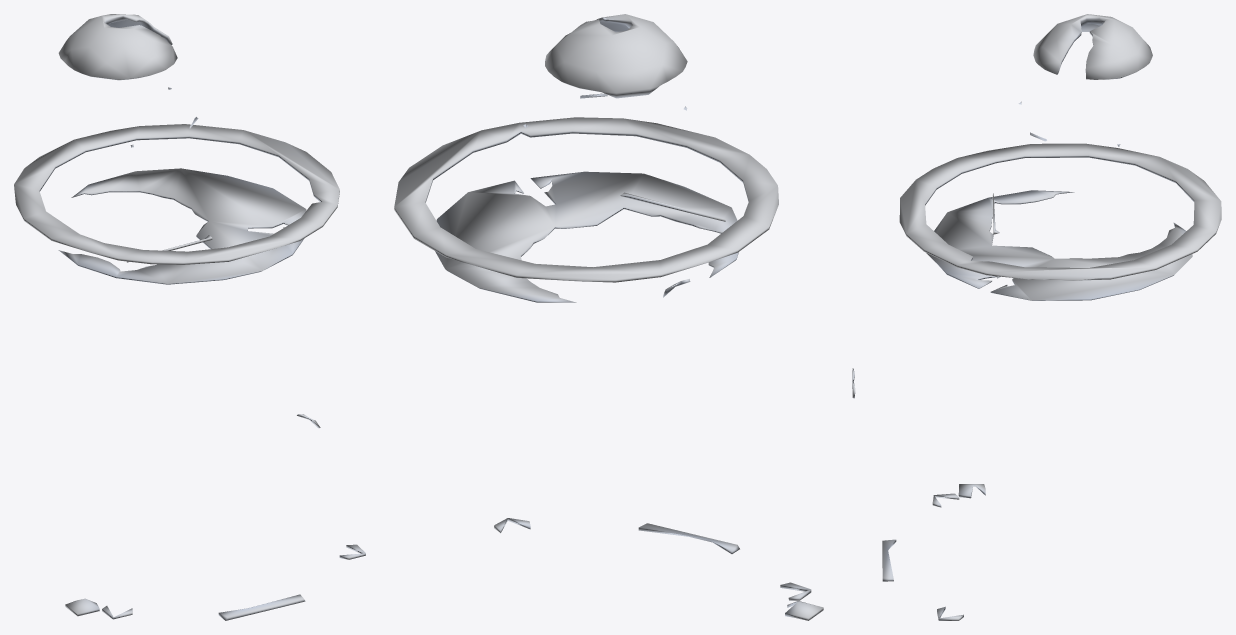
Rendered from protocol.convex.snow.glb.
3 views of the same model, side by side, from view 1: azimuth 30°, elevation 25°; view 2: azimuth 150°, elevation 25°; view 3: azimuth 270°, elevation 25° (orthographic). The views are drawn at different scales.
Parts seen in each view (by area): view 1: building.protocol.convex.snow.mesh; view 2: building.protocol.convex.snow.mesh; view 3: building.protocol.convex.snow.mesh.
Boxes of the visible parts, box(x1,y1,x2,y2) form: building.protocol.convex.snow.mesh: box(14, 14, 365, 620); building.protocol.convex.snow.mesh: box(394, 14, 823, 620); building.protocol.convex.snow.mesh: box(852, 14, 1221, 620).
Size of the model in its own units: 7.31 by 12.62 by 8.11.
